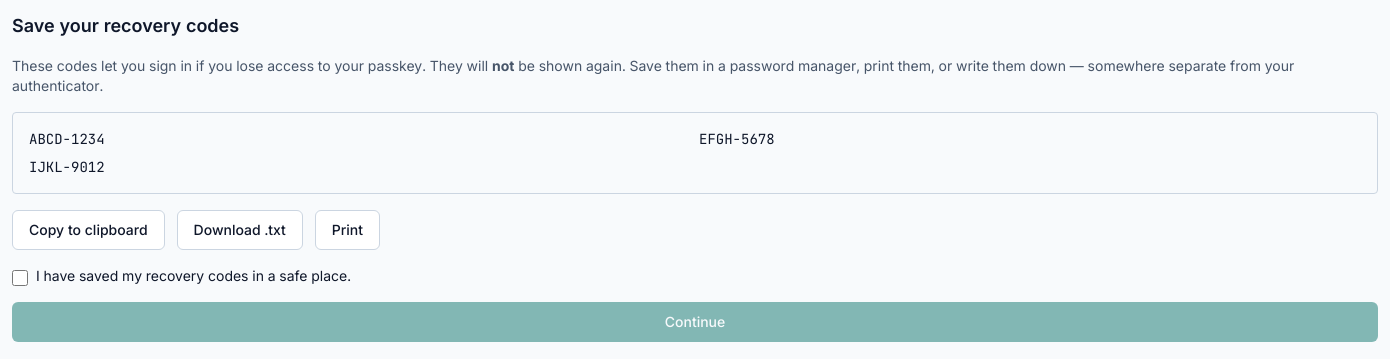
it: RecoveryCodes › writes every code to the clipboard on copy
Click the button "Copy to clipboard" at [88, 230], box [12,210,165,250]
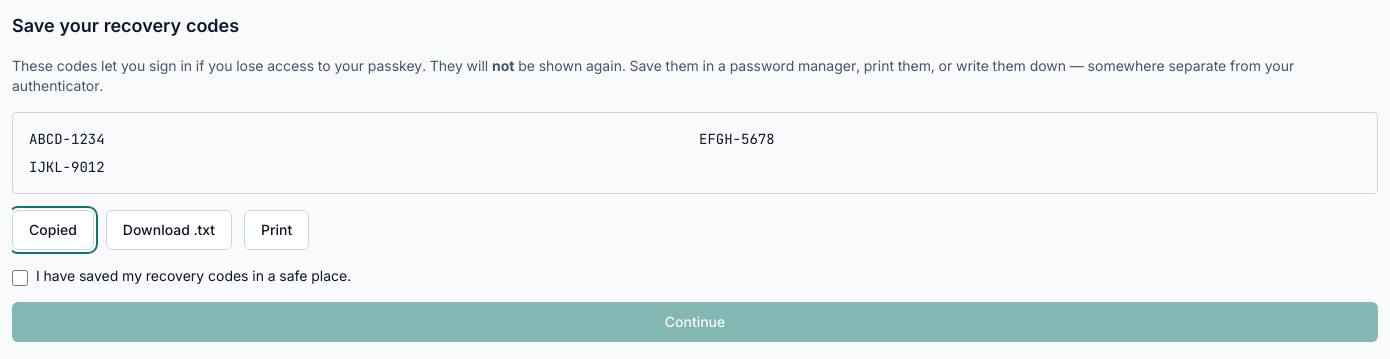
Expected: the button "Copied" is shown, [12,210,94,250]
